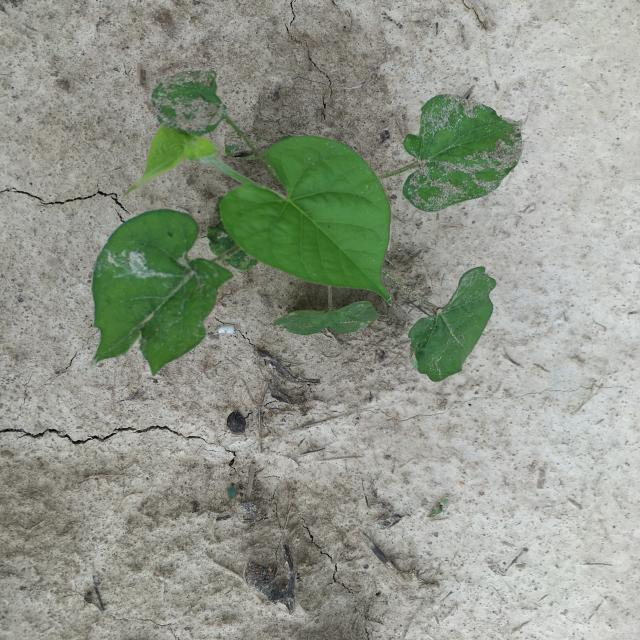MorningGlory: (92, 70, 524, 382)
